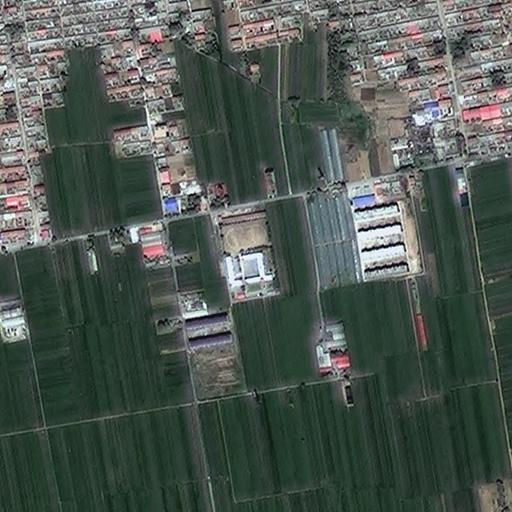school: (217, 209, 283, 301)
